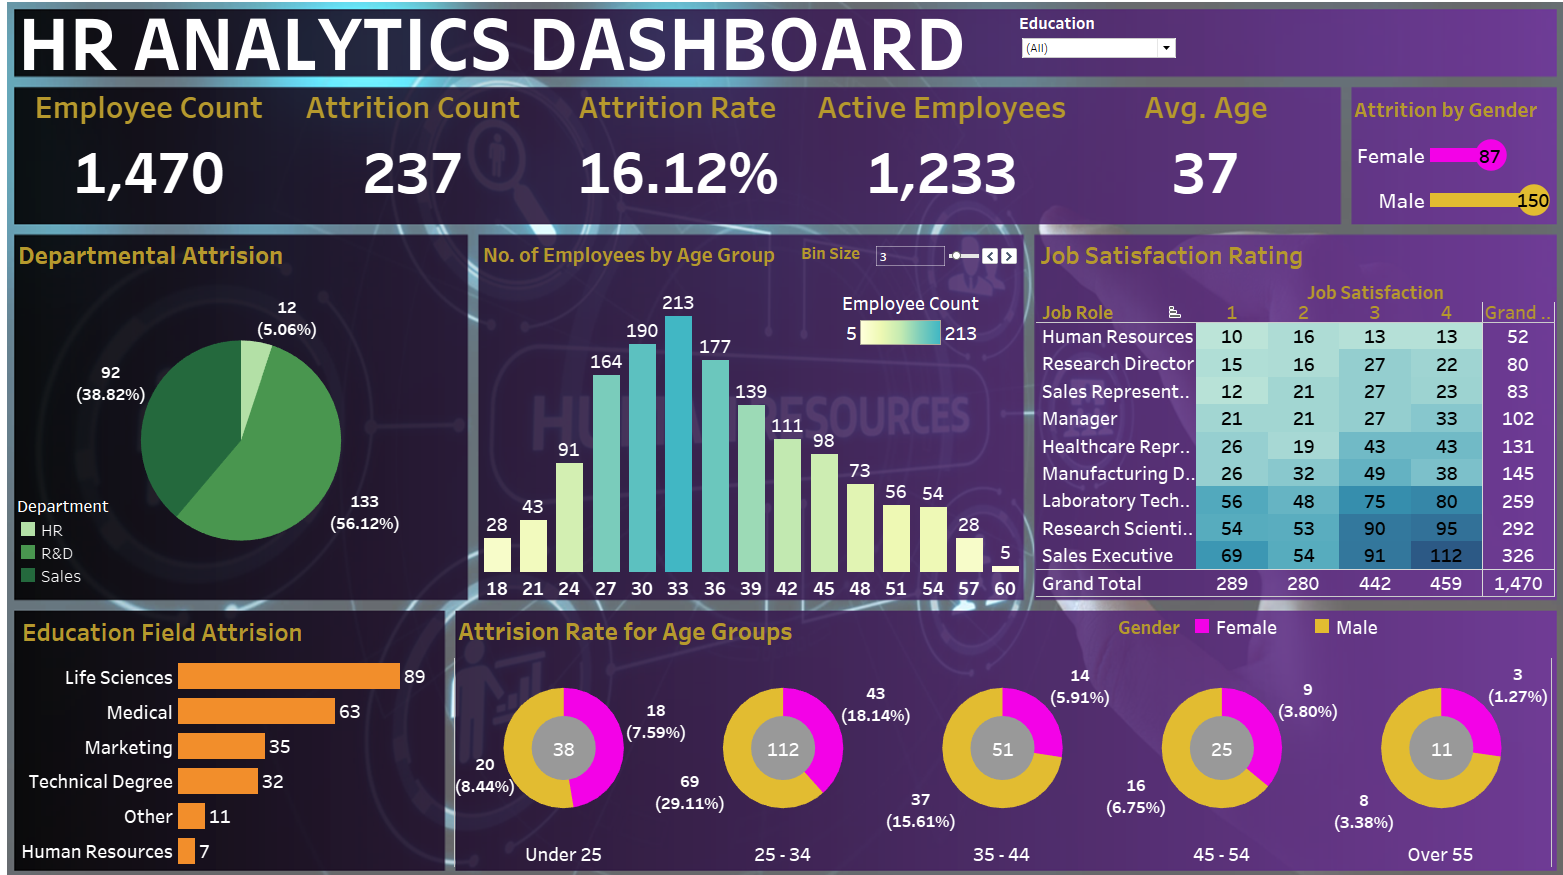

What the dashboard file says about the page in this screenshot:
{"tool":"tableau","page":{"name":"HR Analytics Dashboard","canvas":[1580,900],"ordinal":0},"visuals":[{"type":"image","param":"C:/Users/USER/Downloads/HR background.png","box":[8,8,1564,884]},{"type":"text","box":[19,16,1543,70]},{"type":"filter","title":"Departmental Attrision","param":"[federated.1nbl0gr01jauds1470zjv0asnzvc].[none:Education:nk]","box":[1024,22,160,61]},{"type":"worksheet","title":"KPI","mark":"Automatic","box":[22,96,1321,129]},{"type":"worksheet","title":"Attrition by Gender","mark":"Automatic","rows":["Gender"],"cols":["Calculation_241505542651785216","Calculation_241505542651785216"],"box":[1355,101,206,131]},{"type":"worksheet","title":"Departmental Attrision","mark":"Pie","box":[19,244,454,365]},{"type":"worksheet","title":"Job Satisfaction Rating","mark":"Square","rows":["Job Role"],"cols":["Job Satisfaction"],"box":[1041,244,519,363]},{"type":"worksheet","title":"No. of Employees by Age Group","mark":"Automatic","rows":["Employee Count"],"cols":["Age (bin)"],"box":[484,246,545,365]},{"type":"parameter","param":"[Parameters].[Parameter 1]","box":[806,253,219,42]},{"type":"legend","title":"No. of Employees by Age Group","param":"[federated.1nbl0gr01jauds1470zjv0asnzvc].[sum:Employee Count:qk]","box":[847,300,140,100]},{"type":"legend","title":"Departmental Attrision","param":"[federated.1nbl0gr01jauds1470zjv0asnzvc].[none:Department:nk]","box":[22,505,117,101]},{"type":"worksheet","title":"Attrision Rate for Age Groups ","mark":"Pie","rows":["Calculation_241505542704406532","Calculation_241505542704406532"],"cols":["CF_age band"],"box":[459,620,1098,258]},{"type":"worksheet","title":"Education Field Attrision","mark":"Automatic","rows":["Education Field"],"cols":["Calculation_241505542651785216"],"box":[23,621,424,257]},{"type":"legend","title":"Attrision Rate for Age Groups ","param":"[federated.1nbl0gr01jauds1470zjv0asnzvc].[none:Gender:nk]","box":[1123,624,435,32]}]}

Visuals, with their boxes in screenshot pixels (x1, y1, x2, y2), scaled from the page's 1580x900 canvas onto the 1563x875 screenshot:
image: 8 8 1555 867
text: 19 16 1545 84
"Departmental Attrision" filter: 1013 21 1171 81
"KPI" worksheet: 22 93 1329 219
"Attrition by Gender" worksheet: 1340 98 1544 226
"Departmental Attrision" worksheet (Pie marks): 19 237 468 592
"Job Satisfaction Rating" worksheet (Square marks): 1030 237 1543 590
"No. of Employees by Age Group" worksheet: 479 239 1018 594
parameter: 797 246 1014 287
"No. of Employees by Age Group" legend: 838 292 976 389
"Departmental Attrision" legend: 22 491 138 589
"Attrision Rate for Age Groups " worksheet (Pie marks): 454 603 1540 854
"Education Field Attrision" worksheet: 23 604 442 854
"Attrision Rate for Age Groups " legend: 1111 607 1541 638
